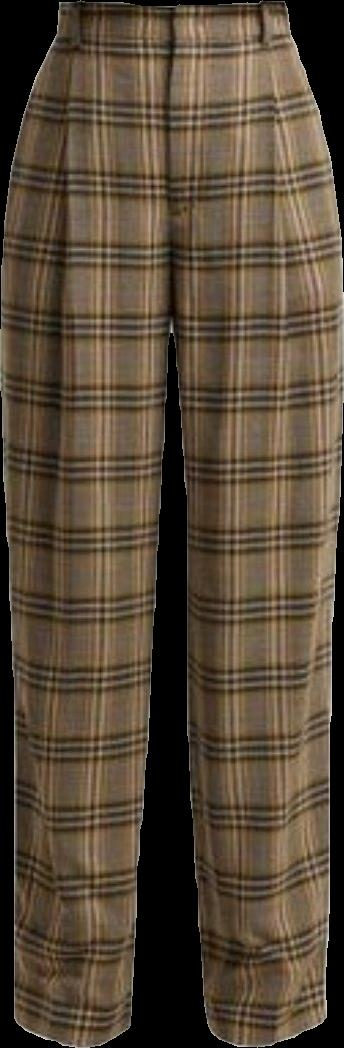Hemline: (205, 1009, 330, 1046), (13, 1016, 134, 1047)
Pantleg: (0, 0, 177, 1047), (166, 1, 343, 1046)
Waistline: (49, 30, 293, 53), (56, 0, 281, 11)
